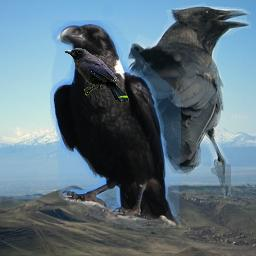Crow: (50, 20, 181, 228), (126, 0, 251, 200), (64, 48, 129, 103)
